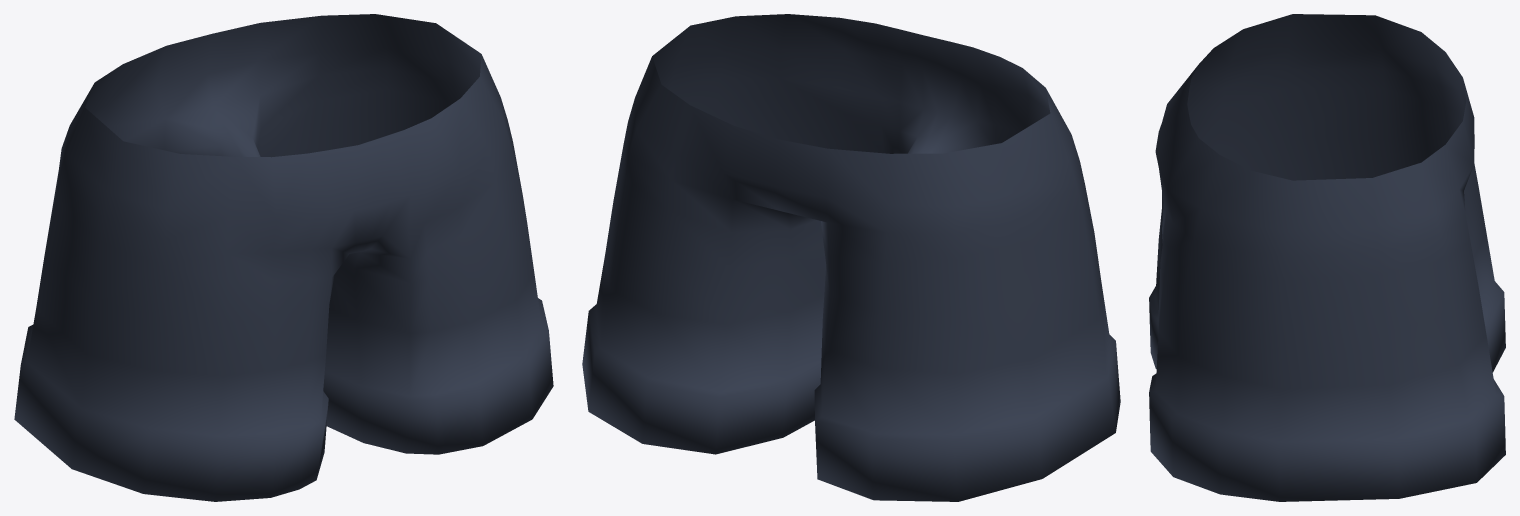
The model's file is sailor-school-pants.glb.
3 renders of one model, left to right at view 1: azimuth 30°, elevation 25°; view 2: azimuth 150°, elevation 25°; view 3: azimuth 270°, elevation 25°, orthographic. The views are drawn at different scales.
Parts seen in each view (by area): view 1: Sailor_pants; view 2: Sailor_pants; view 3: Sailor_pants.
Boxes of the visible parts, <box> form: Sailor_pants: <box>14,14,553,501</box>; Sailor_pants: <box>582,14,1120,501</box>; Sailor_pants: <box>1149,14,1505,501</box>.
Size of the model in its own units: 0.9799 by 0.6386 by 0.669.
